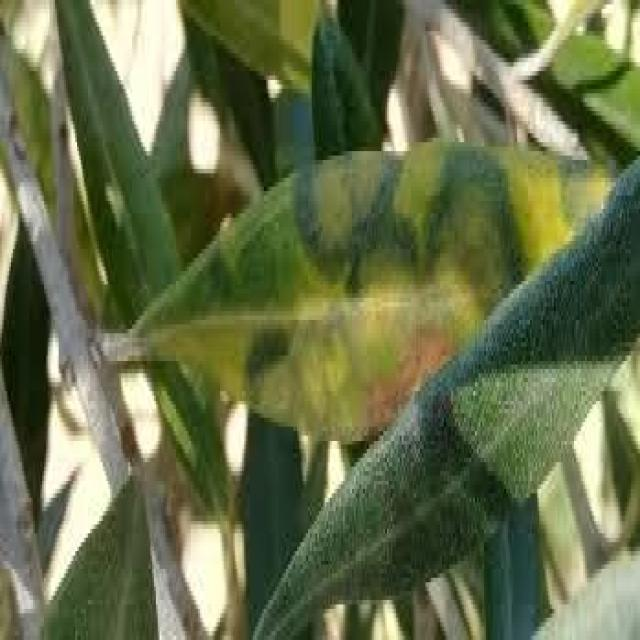Peacock Eye: (143, 138, 605, 422)
